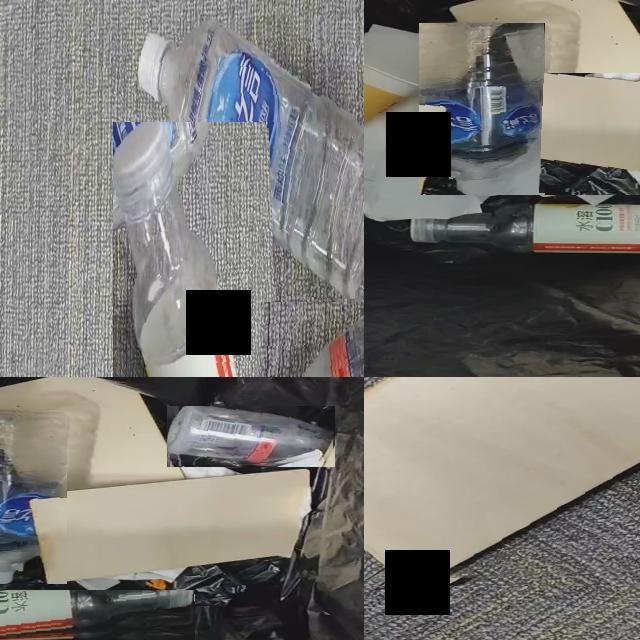bottle: (140, 24, 364, 302), (113, 122, 237, 377), (419, 23, 544, 192), (410, 203, 640, 254), (0, 413, 67, 584), (168, 406, 334, 464), (0, 590, 195, 638)
carton: (364, 377, 640, 581), (27, 470, 309, 582), (0, 377, 185, 491), (450, 0, 640, 103), (517, 73, 640, 173)
dixie_cup: (364, 65, 420, 125)
paper: (364, 98, 480, 222), (364, 25, 435, 86), (78, 568, 183, 594), (574, 182, 640, 206), (178, 456, 235, 478)
